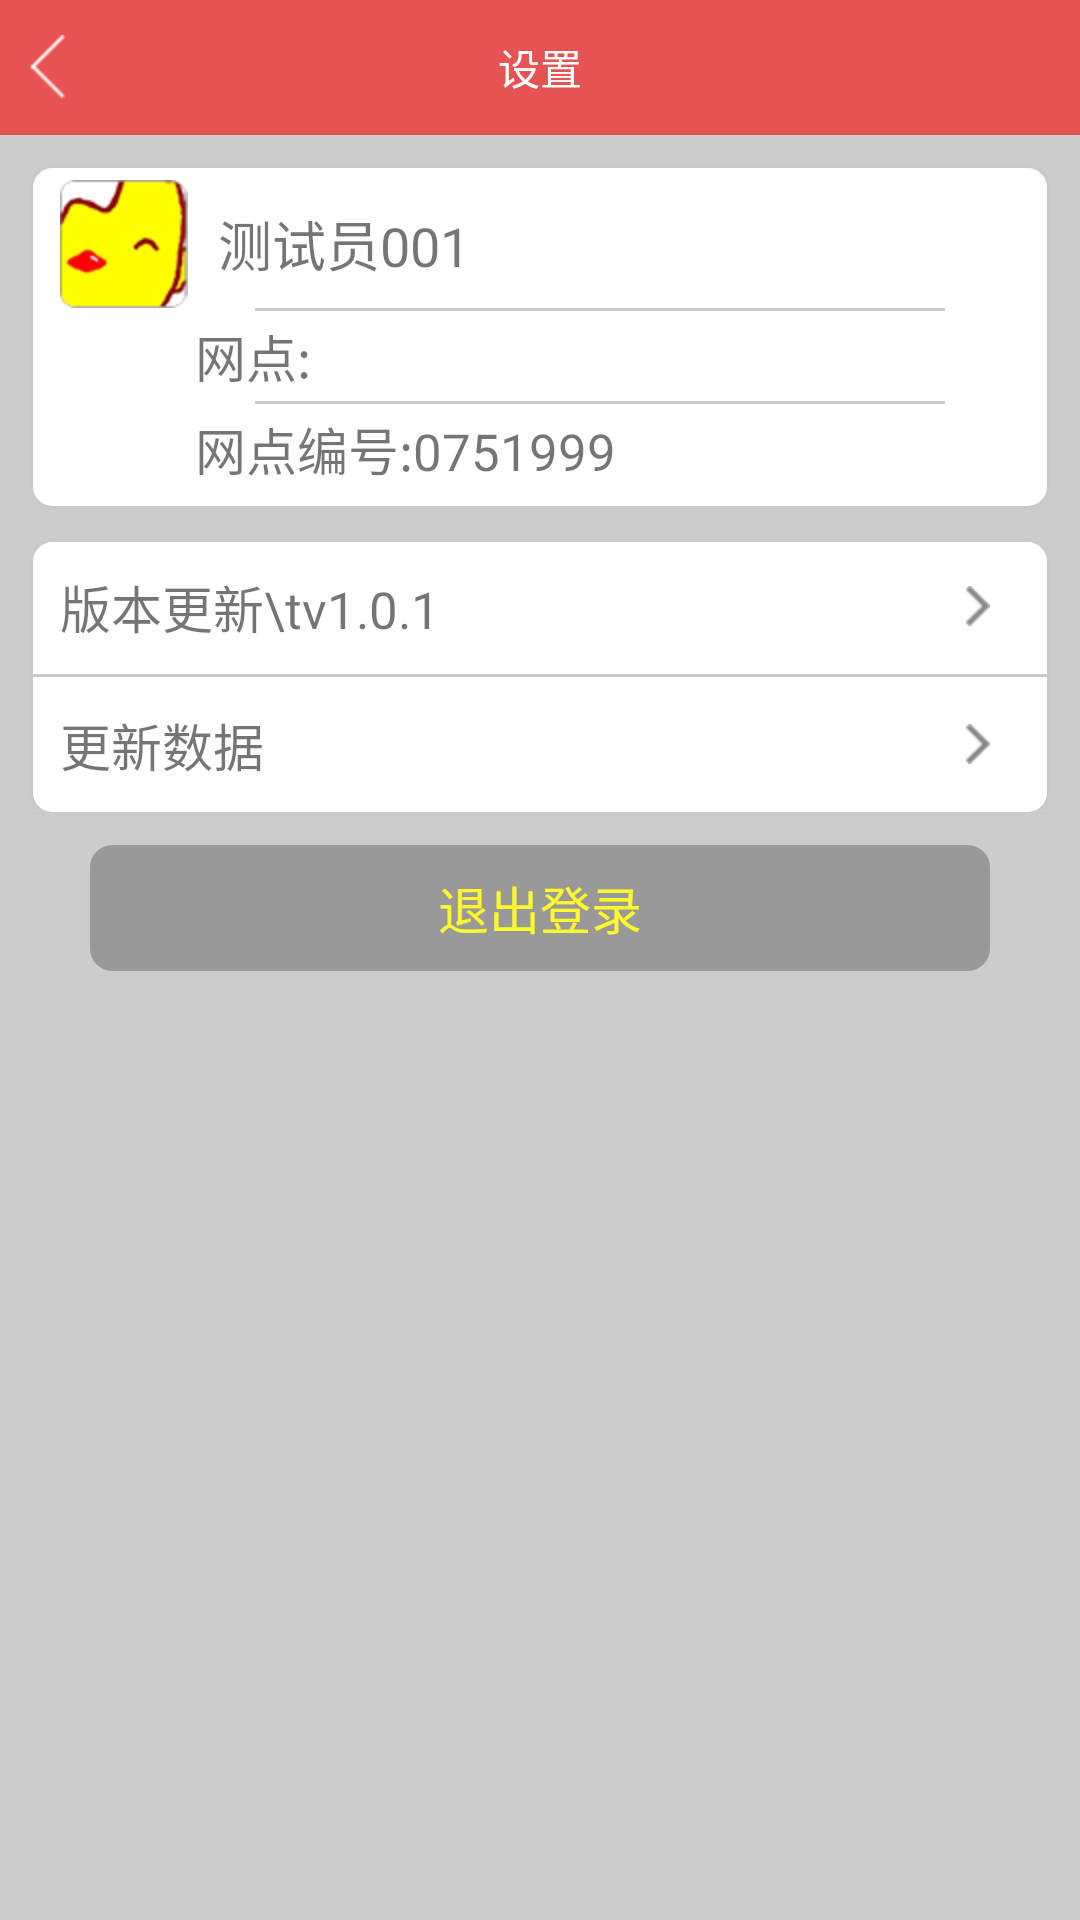

Icons on this 1080 × 1920 Android screen, each with its box as box(x1, y1, x2, y2):
back: box(30, 35, 65, 99)
